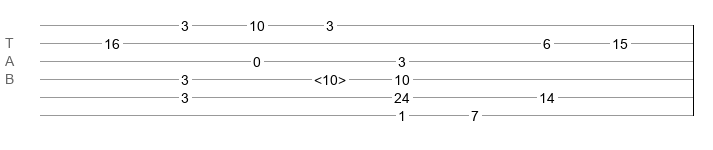0: (253, 54, 261, 64)
1: (398, 108, 406, 118)
10: (249, 18, 265, 28), (394, 72, 410, 82)
14: (539, 90, 555, 100)
15: (612, 36, 628, 46)
16: (104, 36, 120, 46)
24: (394, 90, 410, 100)
3: (181, 72, 189, 82), (181, 18, 189, 28), (181, 90, 189, 100), (326, 18, 334, 28), (398, 54, 406, 64)
6: (543, 36, 551, 46)
7: (471, 108, 479, 118)
harmonic: (314, 72, 346, 82)
